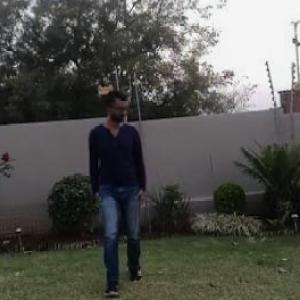follow: (89, 86, 156, 299)
